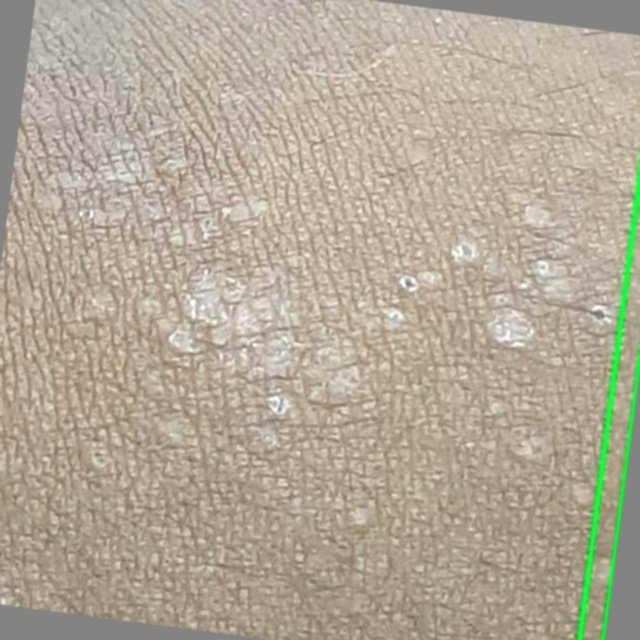Atopic Dermatitis: (579, 179, 639, 639)
